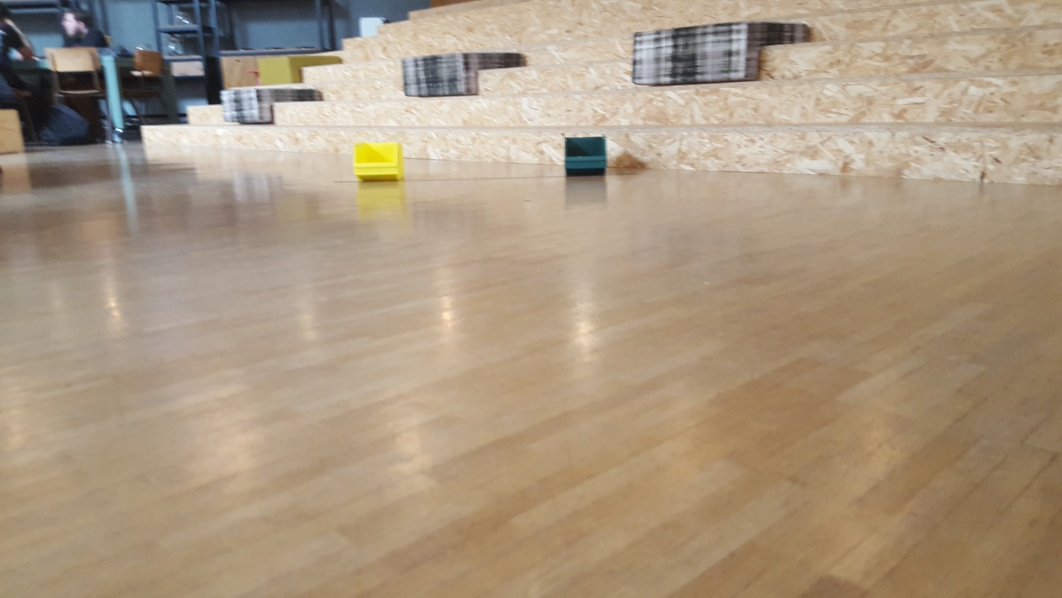tray: (348, 138, 406, 185), (558, 134, 609, 177)
